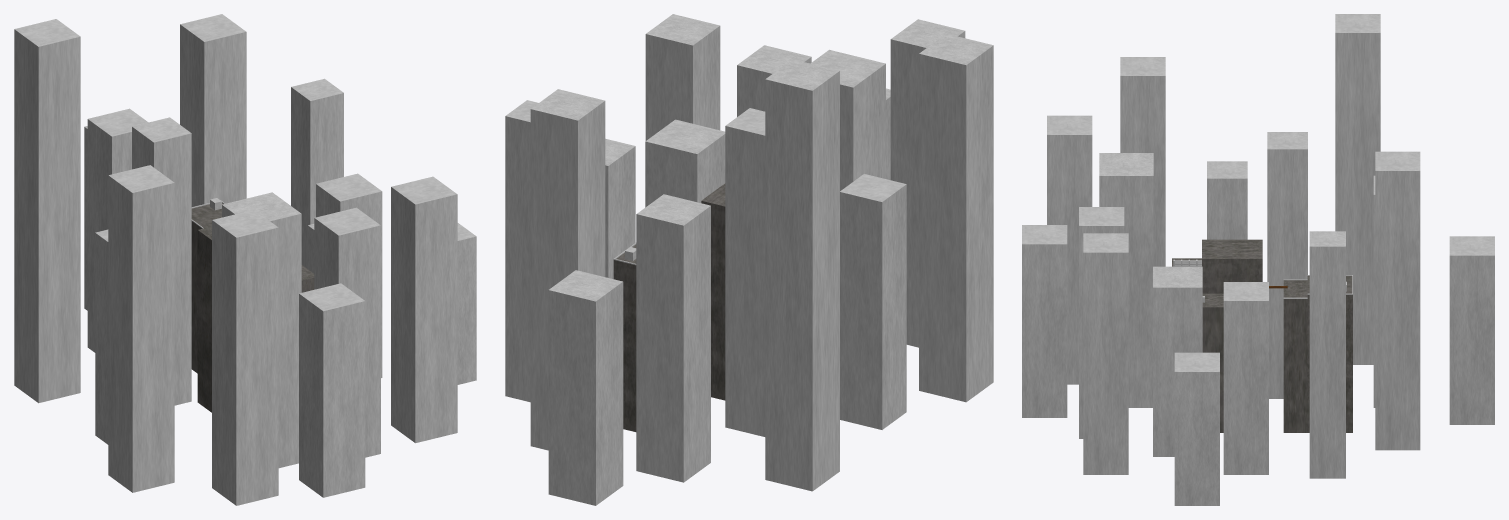
File: TutorialStage.obj
3 views of the same model, side by side, from view 1: azimuth 30°, elevation 25°; view 2: azimuth 150°, elevation 25°; view 3: azimuth 270°, elevation 25° (orthographic). The views are drawn at different scales.
Parts seen in each view (by area): view 1: 立方体.016, 立方体.029, 立方体.027, 立方体.026, 立方体.032, 立方体.013, 立方体.028, 立方体.011, 立方体.030, 立方体.014, 立方体.012, 立方体.025 (+5 smaller); view 2: 立方体.016, 立方体.029, 立方体.012, 立方体.013, 立方体.015, 立方体.017, 立方体.011, 立方体.026, 立方体.014, 立方体.027, 立方体.030, 立方体.031 (+4 smaller); view 3: 立方体.013, 立方体.016, 立方体.026, 立方体.014, 立方体.018, 立方体.032, 立方体.015, 立方体.030, 立方体.011, 立方体.025, 立方体.027, 立方体.031 (+8 smaller).
Part boxes in pixels (<box>): 立方体.016: <box>14,19,80,403</box>; 立方体.029: <box>108,165,174,492</box>; 立方体.027: <box>212,210,278,505</box>; 立方体.026: <box>391,176,457,443</box>; 立方体.032: <box>299,283,365,497</box>; 立方体.013: <box>180,14,246,206</box>; 立方体.028: <box>314,207,380,457</box>; 立方体.011: <box>132,117,191,405</box>; 立方体.030: <box>222,192,301,468</box>; 立方体.014: <box>291,78,343,268</box>; 立方体.012: <box>87,108,148,352</box>; 立方体.025: <box>457,223,476,384</box>; 立方体.016: <box>765,59,839,491</box>; 立方体.029: <box>919,33,993,402</box>; 立方体.012: <box>636,194,710,482</box>; 立方体.013: <box>530,89,605,450</box>; 立方体.015: <box>548,270,623,505</box>; 立方体.017: <box>840,174,906,429</box>; 立方体.011: <box>725,108,765,436</box>; 立方体.026: <box>645,14,720,140</box>; 立方体.014: <box>505,100,538,402</box>; 立方体.027: <box>890,19,965,347</box>; 立方体.030: <box>810,49,885,190</box>; 立方体.031: <box>645,119,725,207</box>; 立方体.013: <box>1375,151,1420,450</box>; 立方体.016: <box>1335,14,1380,364</box>; 立方体.026: <box>1083,233,1128,474</box>; 立方体.014: <box>1309,231,1345,478</box>; 立方体.018: <box>1223,282,1268,474</box>; 立方体.032: <box>1022,225,1067,417</box>; 立方体.015: <box>1449,236,1494,424</box>; 立方体.030: <box>1099,153,1153,407</box>; 立方体.011: <box>1267,132,1307,398</box>; 立方体.025: <box>1174,352,1219,505</box>; 立方体.027: <box>1047,115,1092,384</box>; 立方体.031: <box>1153,266,1202,456</box>.
Bounding box in the file's own units: 266 × 243 × 313.
